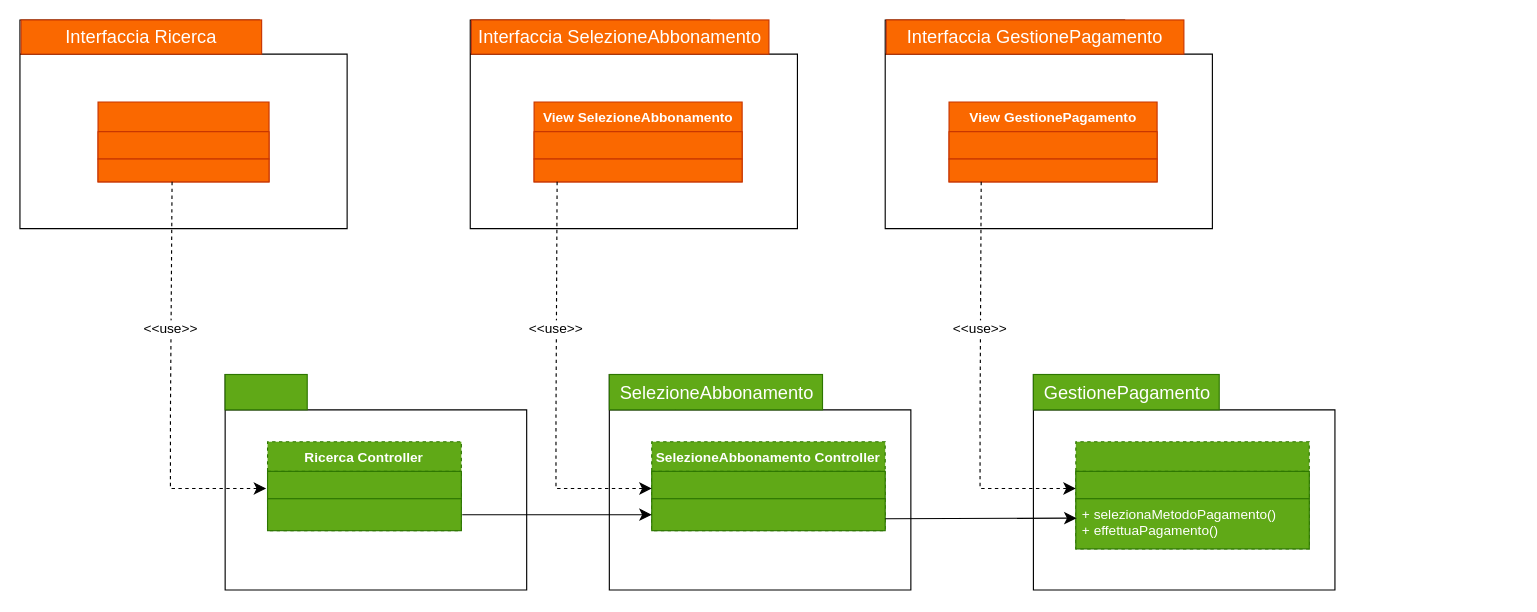
The diagram is 1537 pixels wide and 612 high, and some of its shapes have lost their labels. The shapes that lost their labels are listed below. From the top down, each one's box as (x1, y1, x2, y2) in pixels, then its label:
(97, 101, 269, 182): View Ricerca
(224, 373, 307, 410): Ricerca
(266, 498, 461, 531): + ricerca()
(651, 498, 885, 531): + seleziona()
(1075, 441, 1309, 549): GestionePagamento Controller
